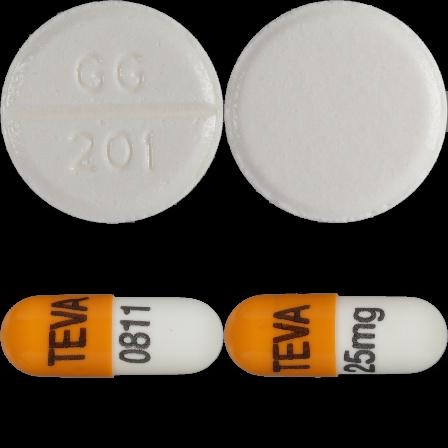67544-075: (0, 0, 224, 224)
